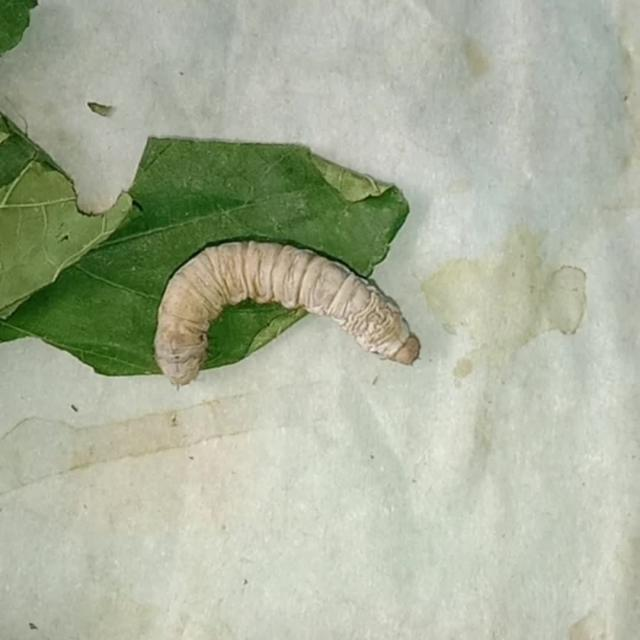Grasserie: (147, 224, 433, 403)
